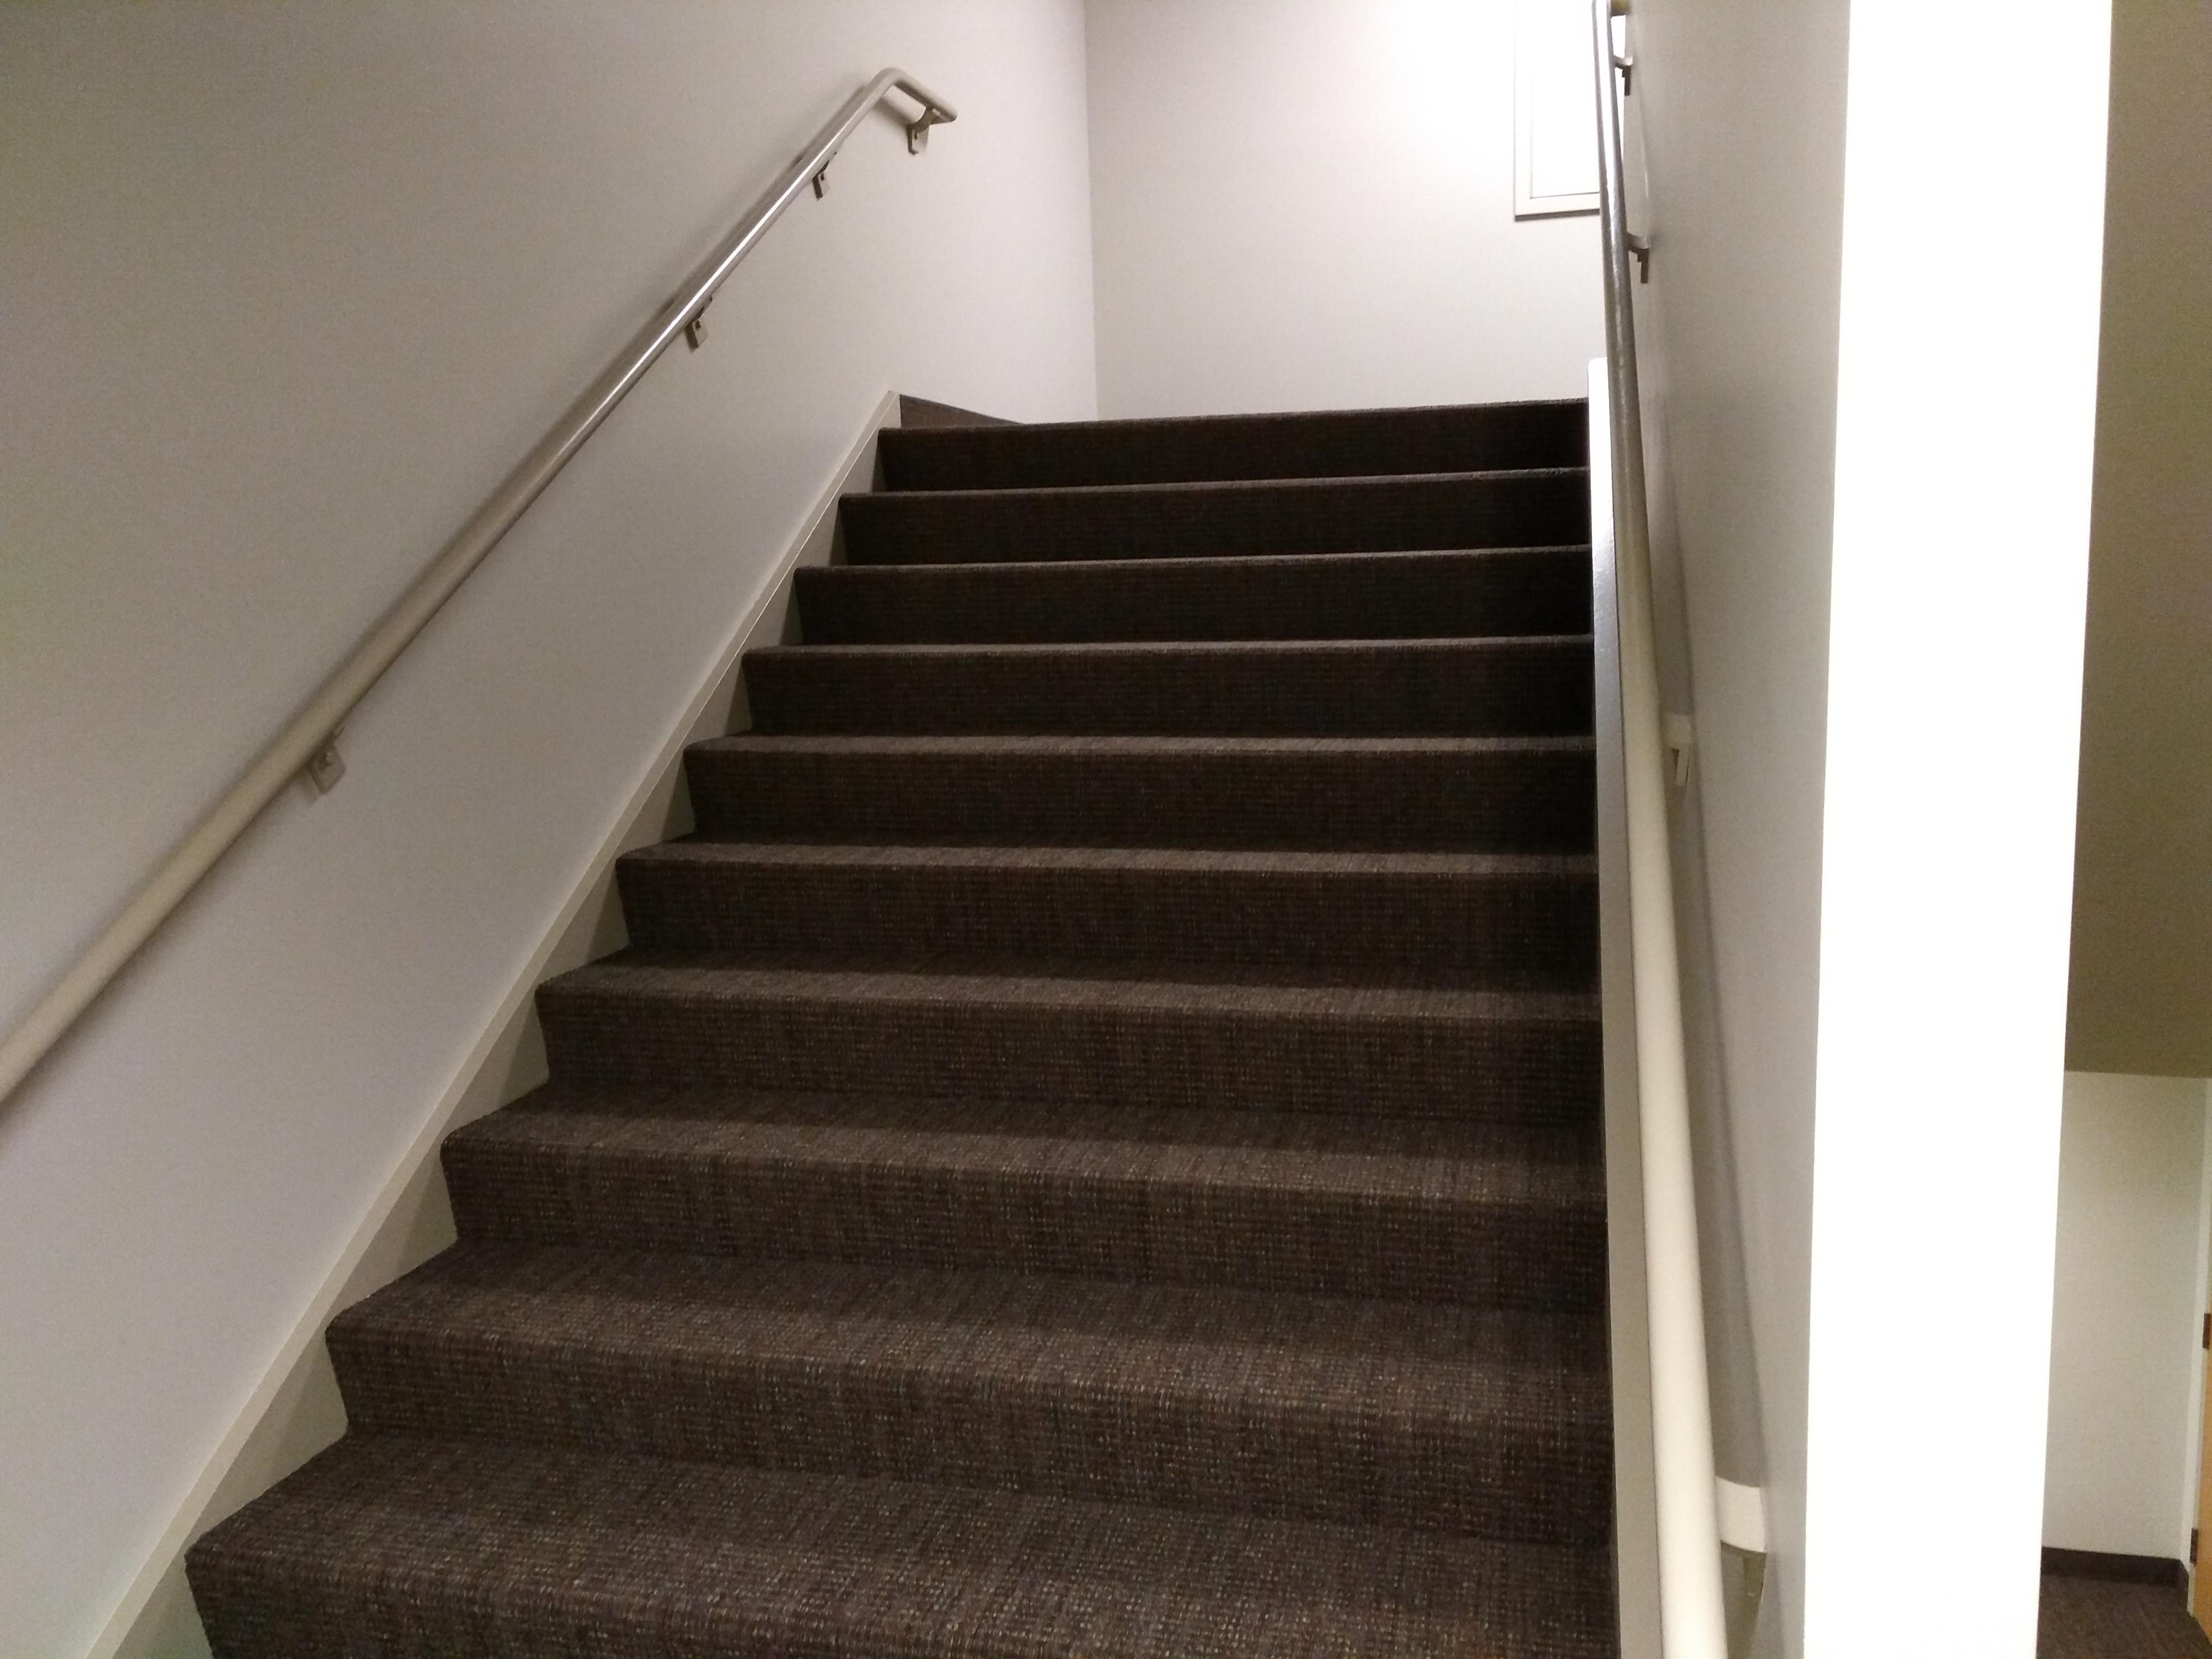stairs_up: (164, 380, 1581, 1607)
